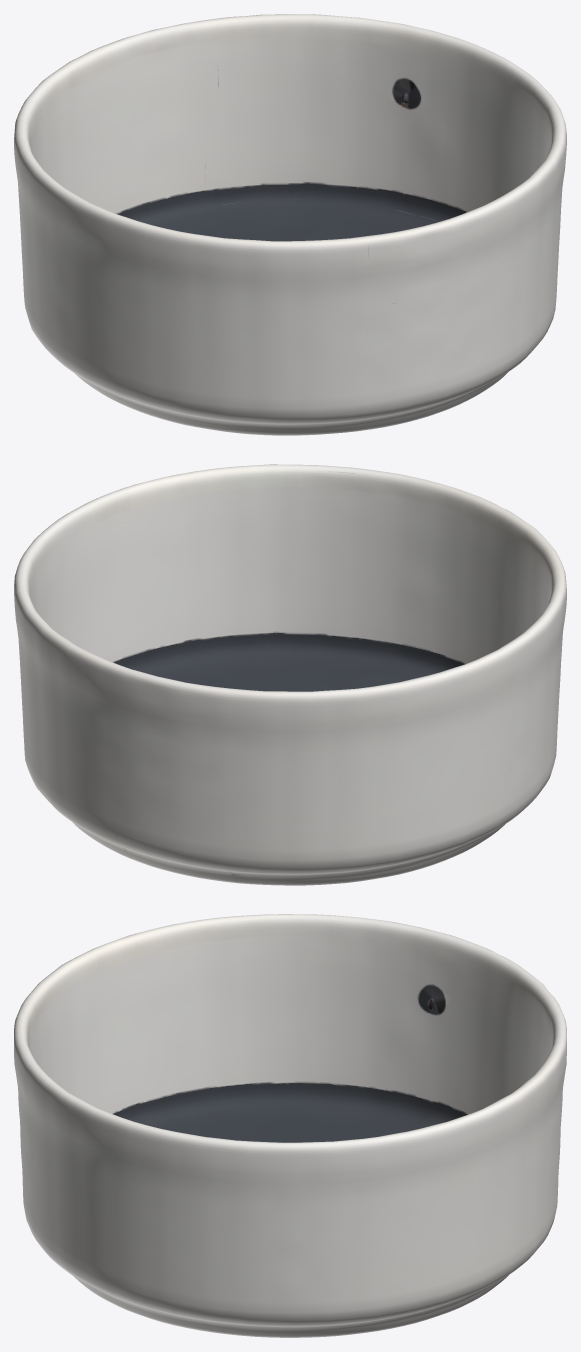
3 renders of one model, top to bottom at view 1: azimuth 30°, elevation 25°; view 2: azimuth 150°, elevation 25°; view 3: azimuth 270°, elevation 25°, orthographic.
Visible parts, largest first — view 1: model; view 2: model; view 3: model.
Boxes of the visible parts, <box> form: model: <box>14,14,566,435</box>; model: <box>14,464,566,885</box>; model: <box>14,914,566,1337</box>.
Bounding box in the file's own units: 2.37 × 1 × 2.36.
Materials: 1 (1 with a texture image).
